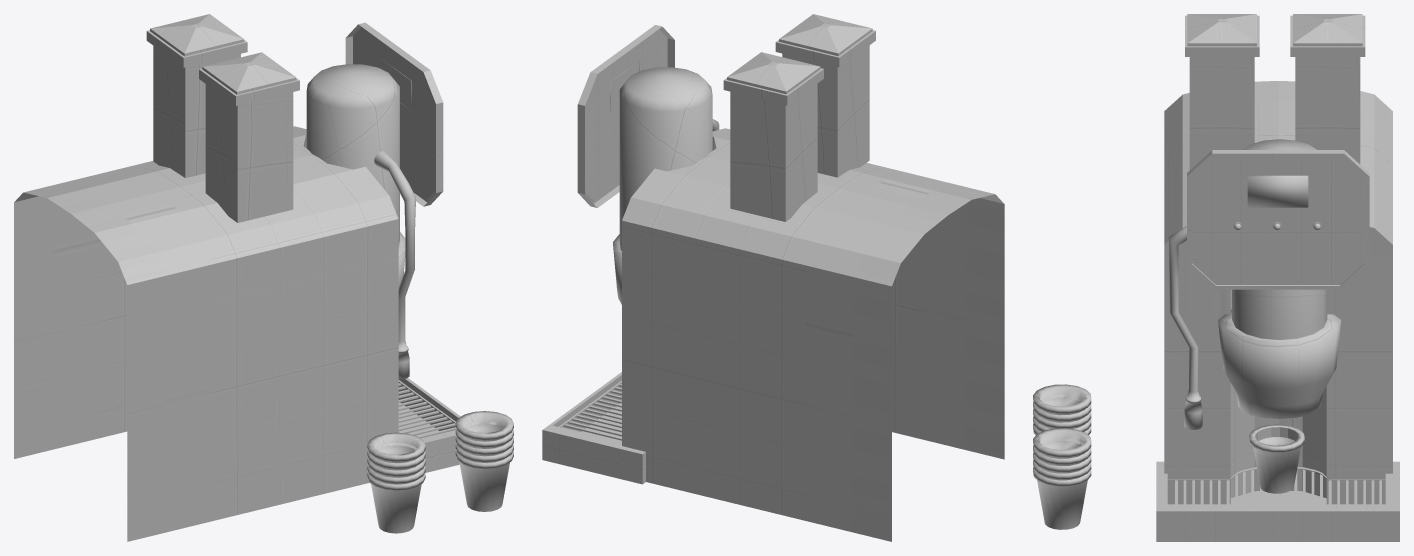
The model's file is Cafetera.fbx.
The picture shows the model from 3 angles, left to right: view 1: azimuth 30°, elevation 25°; view 2: azimuth 150°, elevation 25°; view 3: azimuth 270°, elevation 25°; orthographic projection.
Visible parts, largest first — view 1: Cube.002; view 2: Cube.002; view 3: Cube.002.
Boxes of the visible parts, box(x1,y1,x2,y2) form: Cube.002: box(14, 14, 513, 541); Cube.002: box(542, 14, 1004, 541); Cube.002: box(1033, 14, 1399, 541).
Size of the model in its own units: 71.51 by 82.65 by 64.66.
